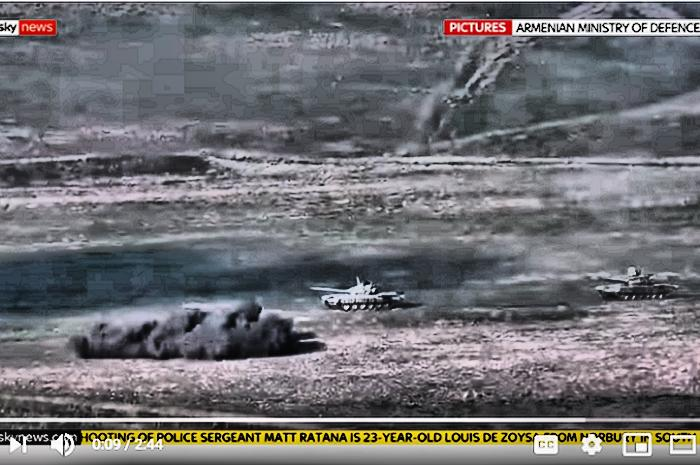military-vehicle: (312, 278, 402, 312), (598, 268, 673, 302)
